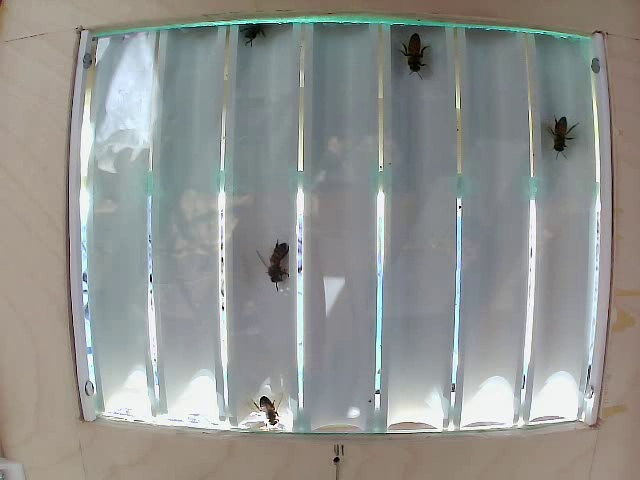bee: (396, 28, 438, 87), (544, 97, 581, 163), (259, 232, 296, 290)
